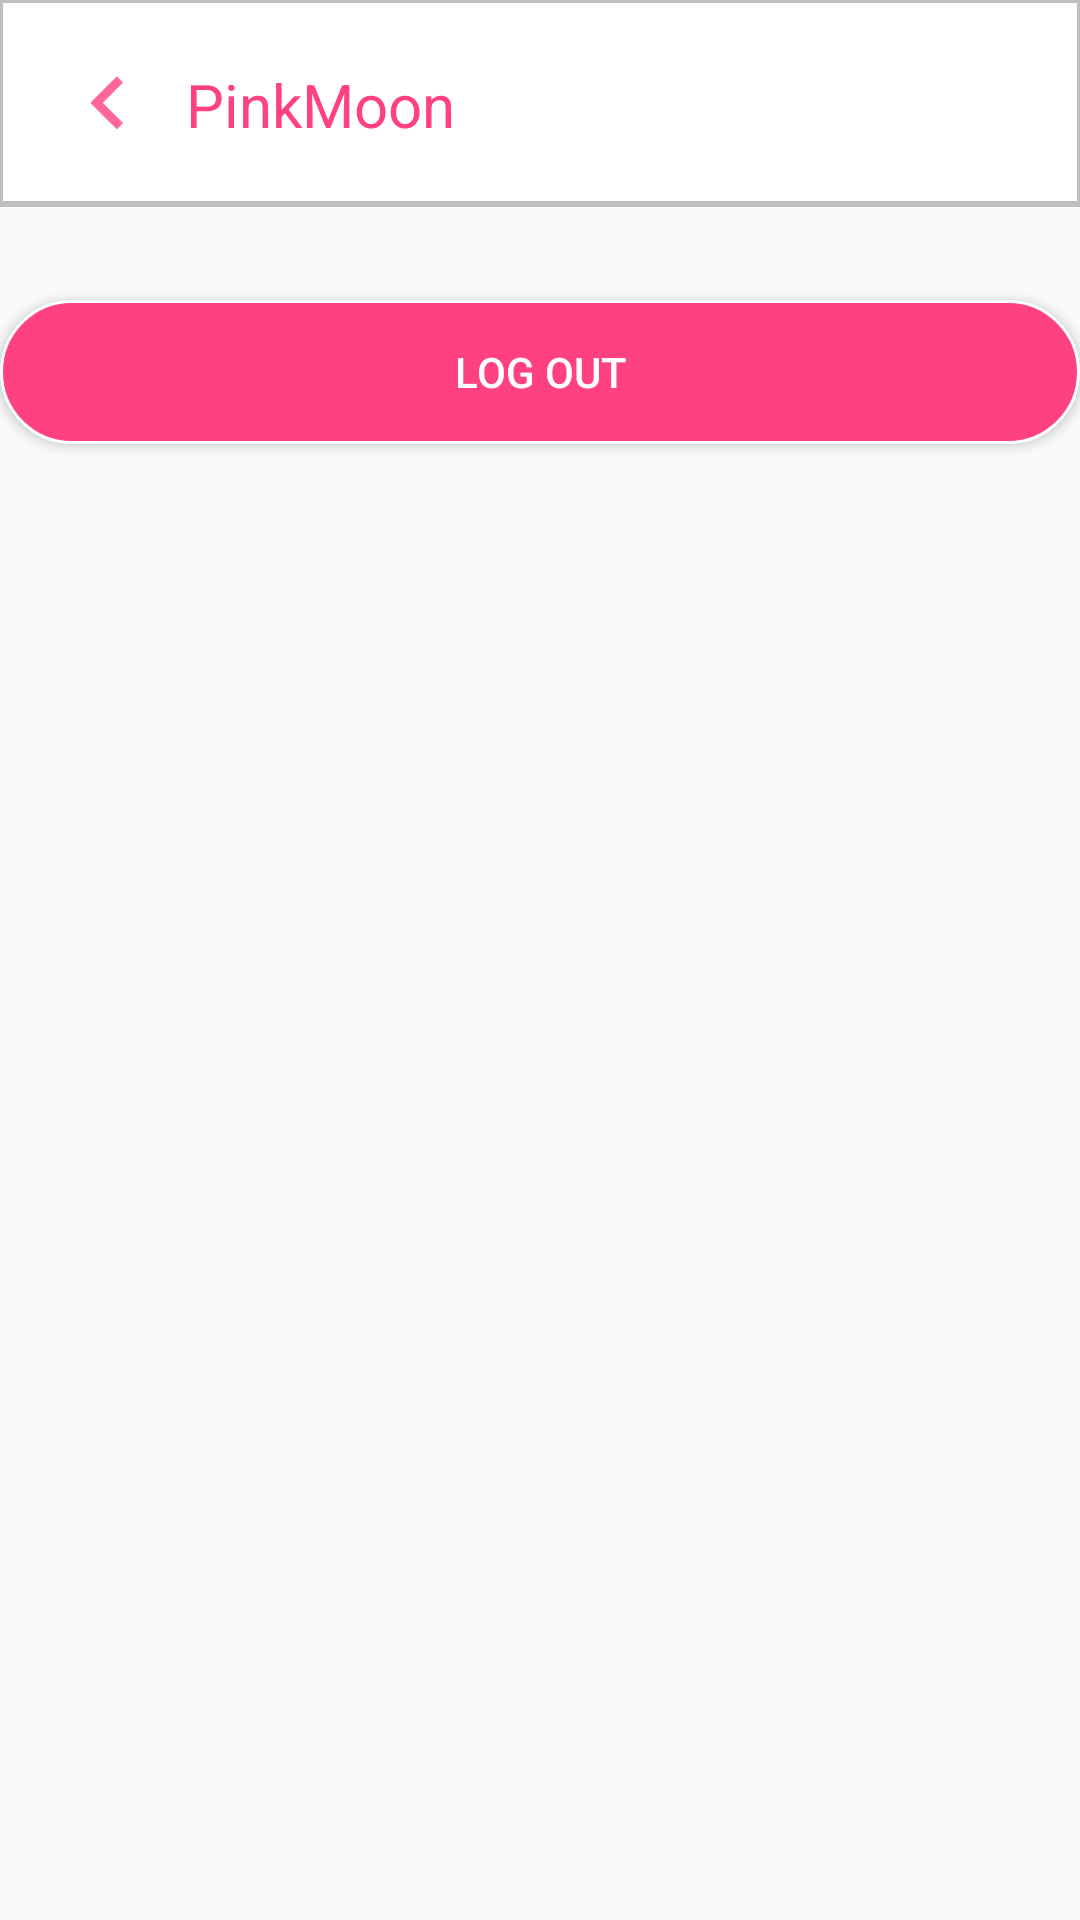

Icons on this 1080px x 1920px Android screen, each with the point to tap as (x,y):
backarrow: (106,102)
